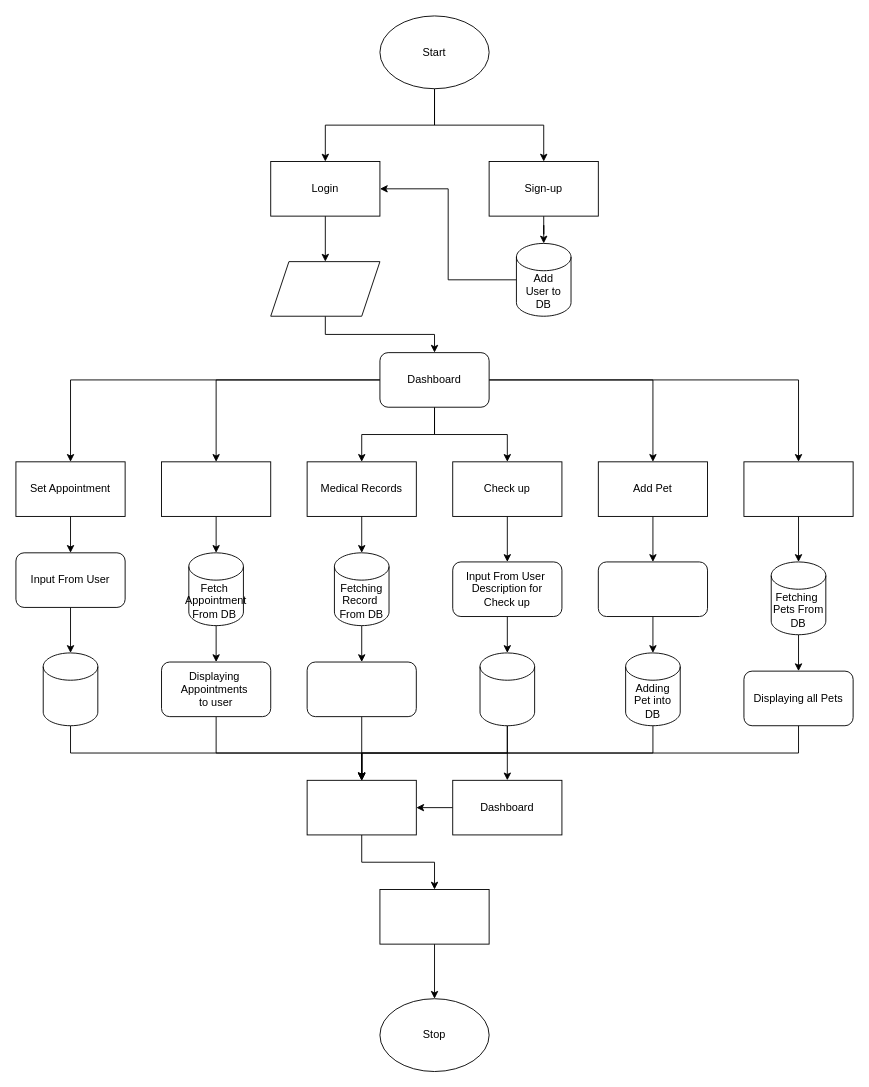
Image size: 869x1087. Some labels were removed from this diagram. Each missing label, with the box of its shape:
Displaying Record to user: (306, 661, 416, 717)
Home Page: (379, 889, 489, 944)
Input From User Name age etc.: (597, 561, 708, 617)
Setting Appointment in DB: (42, 652, 98, 726)
Show Appointment: (161, 461, 271, 516)
Show Pet: (743, 461, 853, 516)
Sign out: (306, 779, 416, 835)
Storing Data in DB: (479, 652, 535, 726)
Validate User: (270, 261, 380, 316)
